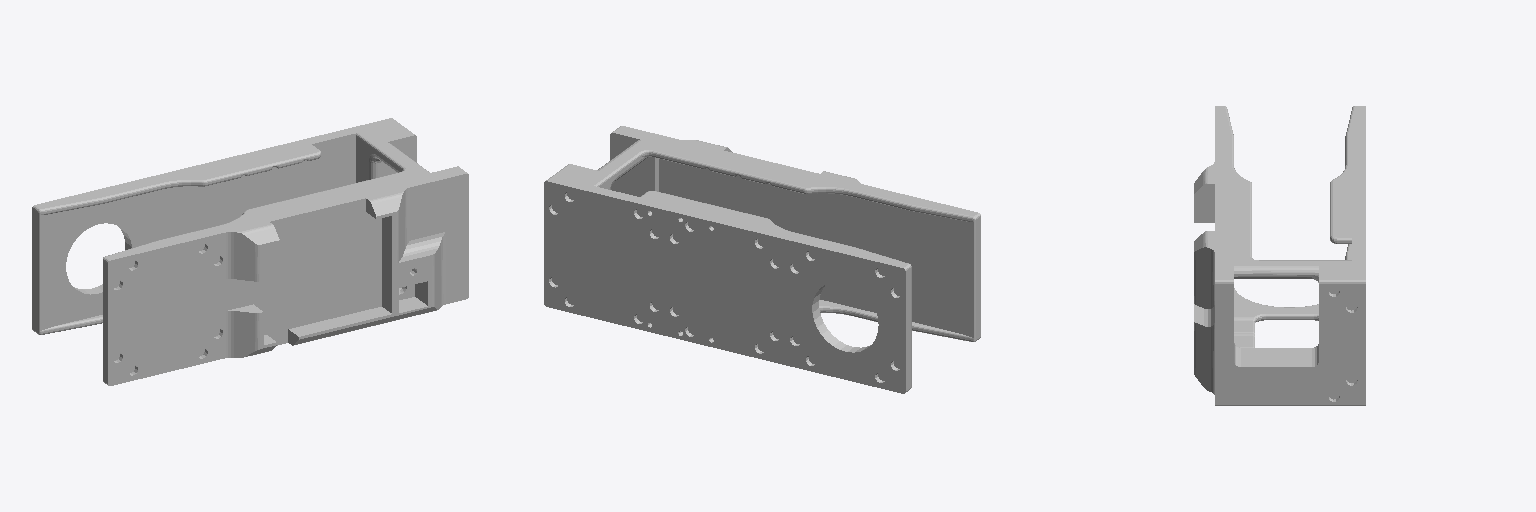
Rendered from XYZ Stage V5_Z Stage Body V5.obj.
3 renders of one model, left to right at view 1: azimuth 30°, elevation 25°; view 2: azimuth 150°, elevation 25°; view 3: azimuth 270°, elevation 25°, orthographic.
Parts seen in each view (by area): view 1: Solid1:1; view 2: Solid1:1; view 3: Solid1:1.
Boxes of the visible parts, x1,y1,x2,y2 form: Solid1:1: [32, 118, 468, 385]; Solid1:1: [544, 126, 980, 393]; Solid1:1: [1194, 106, 1365, 405].
Size of the model in its own units: 150 by 49.8 by 62.